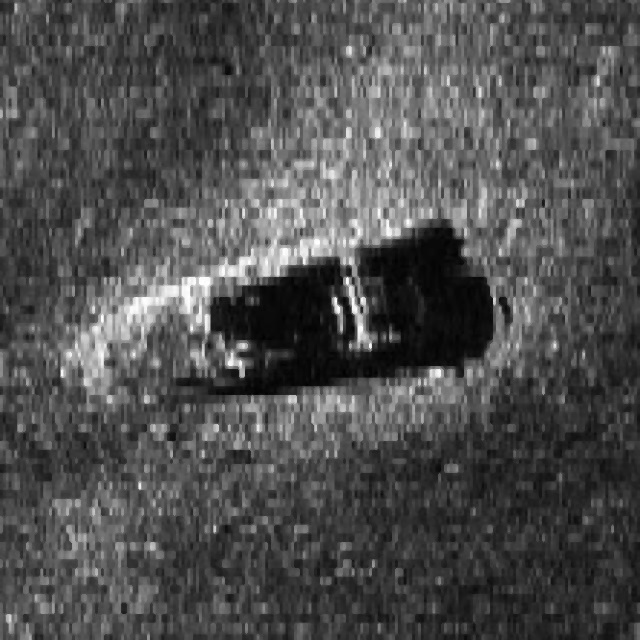Ship: (55, 191, 501, 434)
